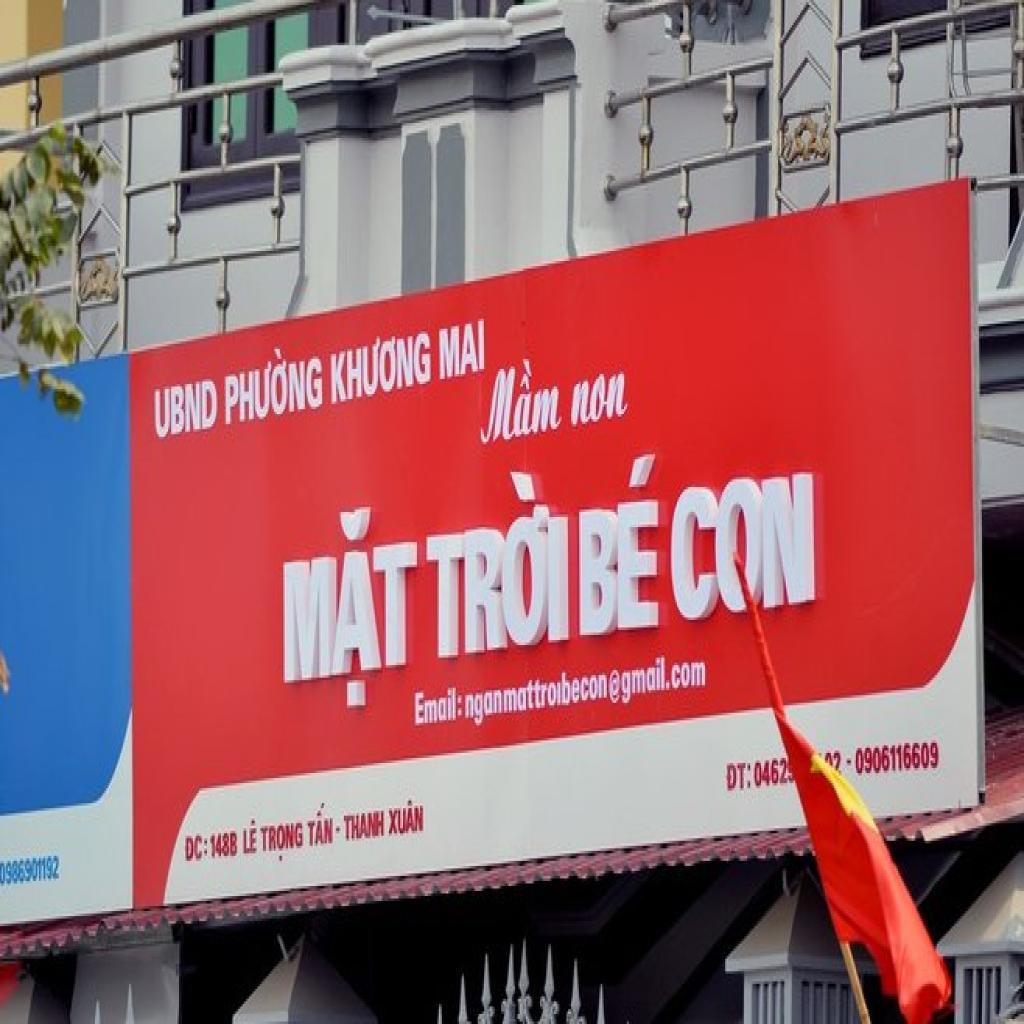text: (285, 497, 417, 720), (424, 466, 566, 662), (671, 467, 812, 625), (462, 650, 707, 730), (579, 450, 658, 638), (226, 342, 326, 430), (476, 356, 567, 450), (332, 326, 434, 409), (154, 376, 219, 442), (568, 369, 629, 434), (438, 316, 486, 382), (414, 688, 464, 733), (0, 856, 62, 891), (260, 821, 305, 866), (344, 811, 389, 843), (389, 798, 425, 838), (308, 811, 335, 858), (753, 758, 789, 791), (210, 828, 241, 861), (725, 763, 753, 798), (184, 834, 210, 868), (243, 821, 260, 861)
